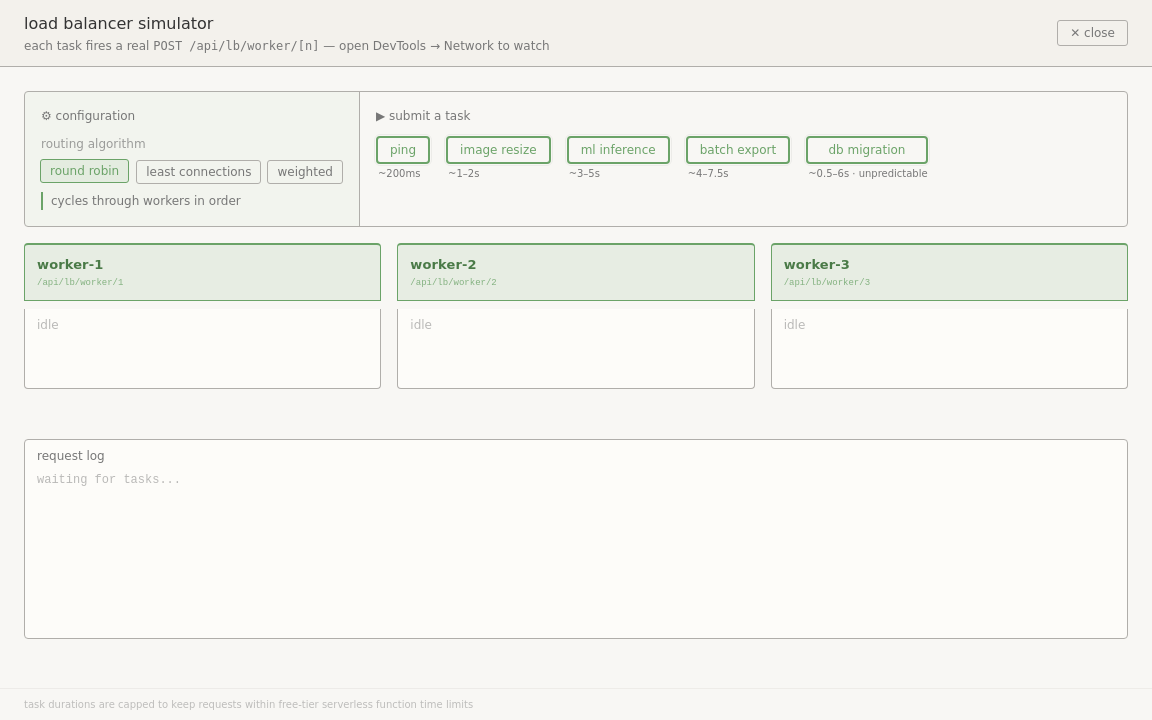
LoadBalancerOverlay › a 503 response logs a retry message
Click the button "ping".
click(403, 150)  # box [376, 136, 430, 164]
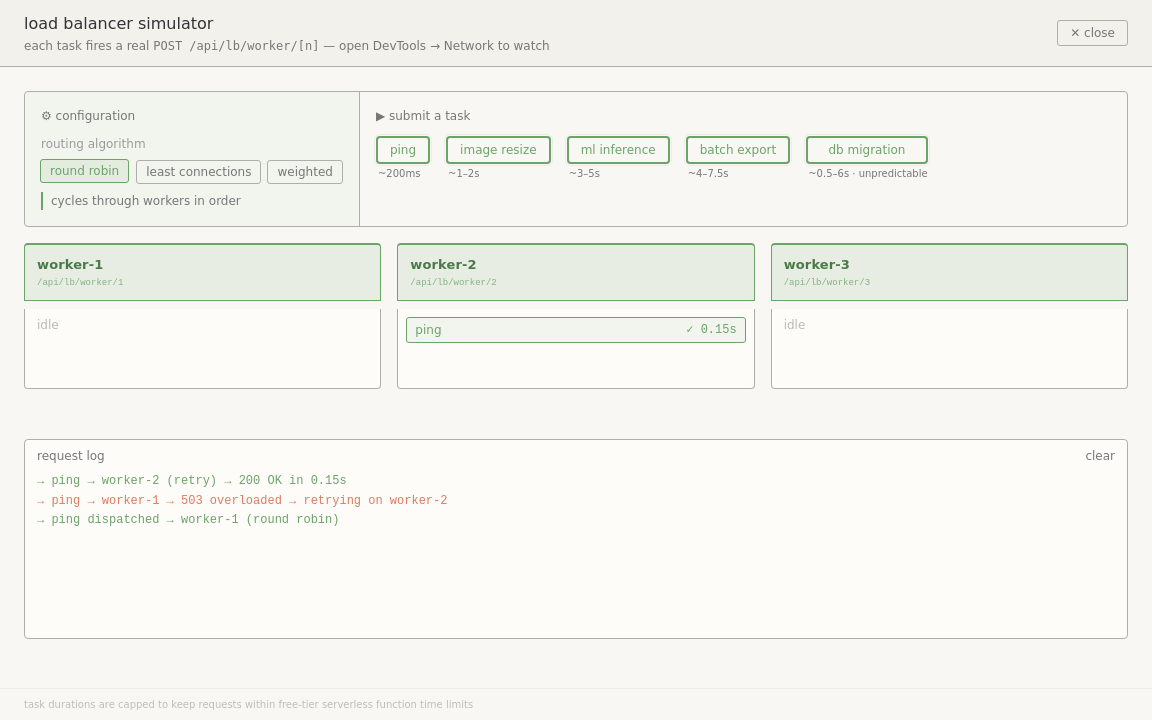
Expected: the text "→ ping → worker-1 → 503 overloaded → retrying on worker-2" is shown, [37, 494, 448, 508]
